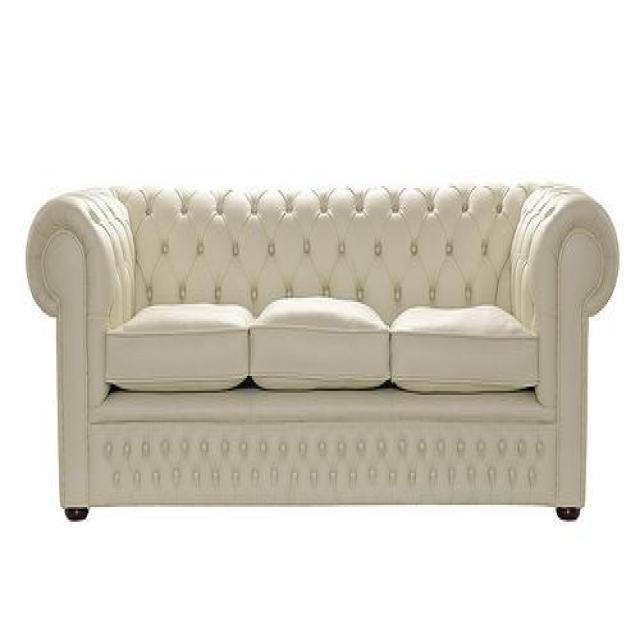sofa: (24, 181, 622, 524)
